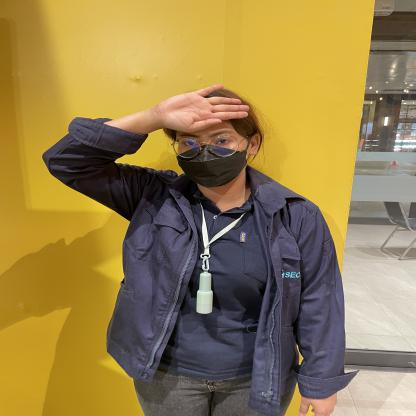Sick: (70, 72, 276, 144)
